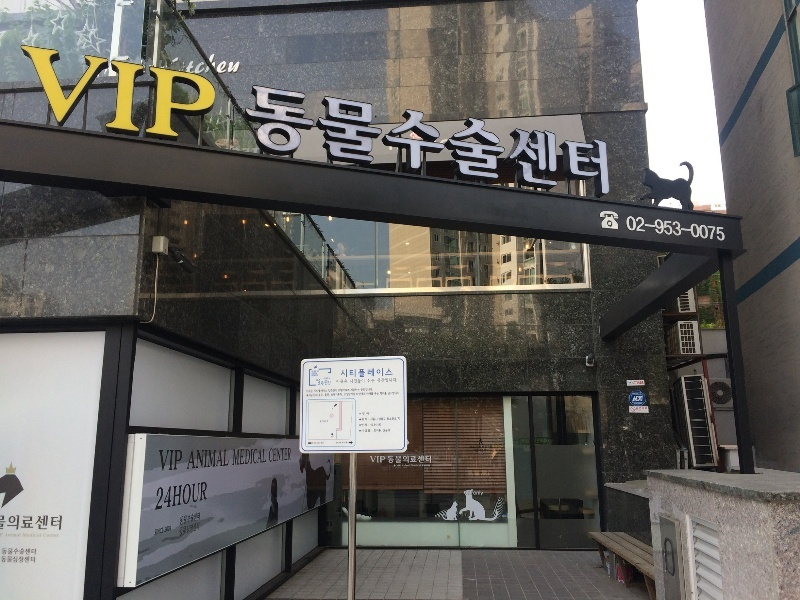text: (257, 81, 272, 198), (273, 81, 288, 198), (289, 81, 304, 198), (305, 81, 320, 198), (321, 81, 336, 198), (337, 81, 352, 198), (353, 81, 368, 198), (369, 81, 384, 198), (385, 81, 400, 198), (401, 81, 416, 198), (417, 81, 432, 198), (433, 81, 448, 198), (449, 81, 464, 198), (465, 81, 480, 198), (481, 81, 496, 198), (497, 81, 512, 198), (513, 81, 528, 198), (529, 81, 544, 198), (545, 81, 560, 198), (561, 81, 576, 198), (577, 81, 592, 198), (593, 81, 608, 198), (17, 41, 32, 151), (33, 41, 48, 151), (49, 41, 64, 151), (65, 41, 80, 151), (81, 41, 96, 151), (97, 41, 112, 151), (113, 41, 128, 151), (129, 41, 144, 151), (145, 41, 160, 151), (161, 41, 176, 151), (177, 41, 192, 151), (193, 41, 208, 151), (209, 41, 222, 151), (246, 81, 256, 198), (161, 481, 176, 513), (177, 481, 192, 513), (193, 481, 208, 513), (625, 215, 640, 244), (641, 215, 656, 244), (657, 215, 672, 244), (673, 215, 688, 244), (689, 215, 704, 244), (705, 215, 720, 244), (609, 81, 612, 198), (193, 53, 208, 76), (209, 53, 224, 76), (225, 53, 240, 76), (161, 449, 176, 472), (193, 449, 208, 471), (209, 449, 224, 471), (241, 448, 256, 467), (1, 515, 16, 531), (17, 515, 32, 531), (33, 515, 48, 531), (273, 448, 288, 463), (49, 515, 63, 531), (179, 521, 192, 538), (257, 448, 267, 467), (180, 512, 192, 527), (177, 449, 184, 472), (353, 368, 368, 378), (369, 368, 384, 378), (401, 455, 416, 464), (417, 455, 432, 464), (233, 448, 240, 467), (156, 481, 160, 513), (193, 512, 201, 527), (1, 556, 16, 564), (17, 556, 32, 564), (369, 456, 384, 464), (193, 521, 200, 538), (387, 455, 400, 464), (721, 215, 725, 244), (187, 53, 192, 76), (225, 449, 230, 471), (17, 549, 32, 556), (321, 391, 336, 398), (337, 391, 352, 398), (353, 391, 368, 398), (369, 391, 384, 398), (385, 391, 400, 398), (342, 368, 352, 378), (165, 525, 176, 534), (2, 549, 16, 556), (306, 391, 320, 398), (321, 388, 336, 394), (337, 388, 352, 394), (353, 388, 368, 394), (385, 368, 394, 378), (513, 438, 528, 444), (306, 388, 320, 394), (321, 379, 331, 386), (385, 417, 401, 421), (268, 448, 272, 463), (369, 429, 384, 433), (369, 417, 384, 421), (353, 379, 365, 384), (385, 378, 397, 383), (465, 491, 480, 495), (312, 370, 320, 377), (49, 534, 60, 539), (535, 438, 544, 444), (369, 423, 382, 427), (241, 53, 243, 76), (401, 464, 416, 467), (5, 534, 16, 538), (337, 380, 348, 384), (481, 445, 492, 449), (417, 464, 431, 467), (155, 528, 160, 536), (470, 445, 480, 449), (23, 534, 32, 538), (474, 491, 480, 497), (634, 396, 640, 402), (377, 378, 384, 383), (33, 534, 41, 538), (632, 381, 640, 385), (289, 448, 291, 463), (33, 549, 37, 556), (316, 379, 320, 386), (43, 534, 48, 539), (161, 528, 164, 536), (33, 556, 36, 564), (362, 429, 368, 433), (362, 423, 368, 427), (362, 417, 368, 421), (369, 388, 373, 394), (369, 379, 375, 383), (481, 449, 489, 452), (159, 449, 160, 472), (191, 449, 192, 471), (393, 464, 400, 467), (641, 407, 648, 410), (385, 429, 390, 433), (363, 412, 368, 416), (481, 491, 484, 497), (474, 449, 480, 452), (545, 438, 548, 444), (17, 534, 21, 538), (641, 381, 644, 385), (641, 396, 643, 402), (636, 407, 640, 410), (350, 379, 352, 384), (397, 464, 400, 467), (529, 438, 530, 444), (367, 379, 368, 383)
